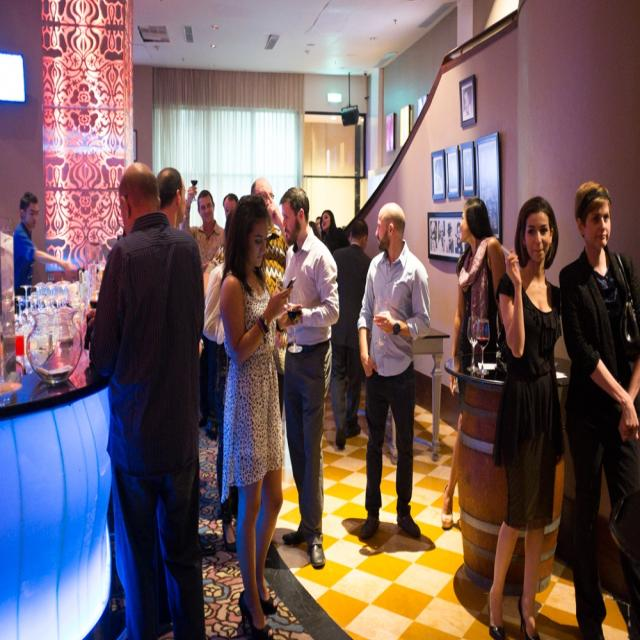body: (89, 160, 208, 640), (217, 190, 305, 639), (557, 179, 639, 639), (487, 193, 564, 640), (355, 199, 432, 540), (276, 182, 341, 572), (441, 196, 507, 530), (202, 208, 241, 555), (250, 177, 292, 422), (330, 217, 373, 451), (426, 140, 501, 258), (12, 191, 74, 314), (181, 184, 227, 274), (154, 165, 189, 229), (308, 202, 346, 252), (460, 82, 474, 123), (221, 191, 240, 215)
